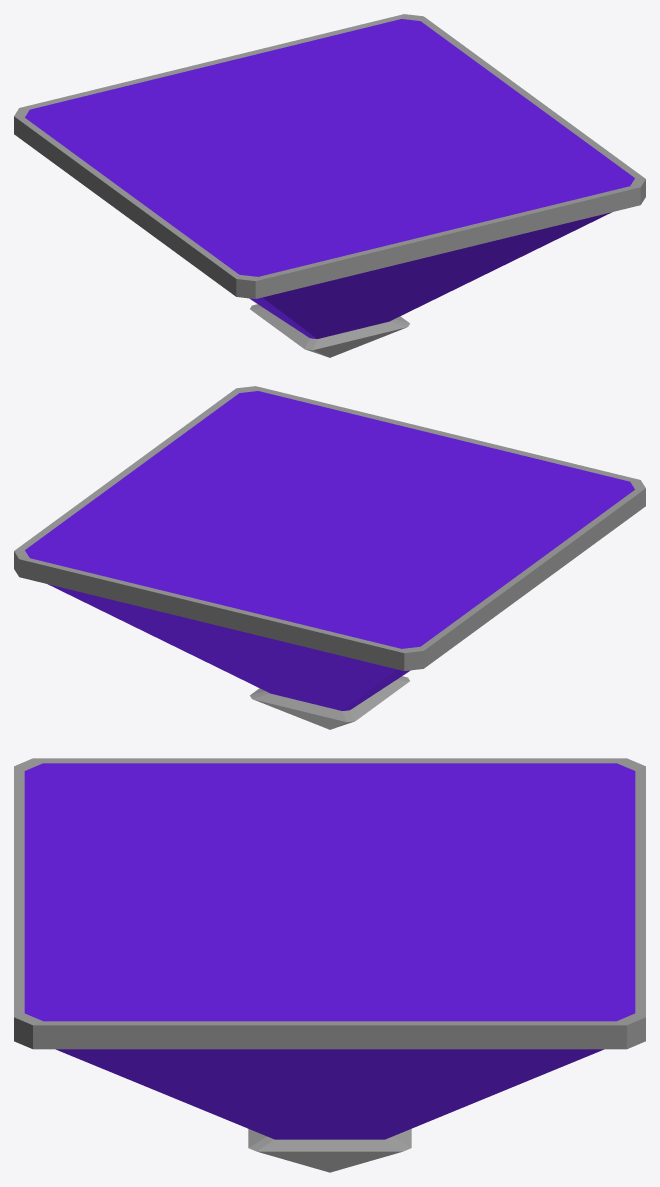
Rendered from Model_Obelisk_StageBase.fbx.
3 renders of one model, top to bottom at view 1: azimuth 30°, elevation 25°; view 2: azimuth 150°, elevation 25°; view 3: azimuth 270°, elevation 25°, orthographic. The views are drawn at different scales.
Visible parts, largest first — view 1: Obelisk Stage Base; view 2: Obelisk Stage Base; view 3: Obelisk Stage Base.
Boxes of the visible parts, box(x1,y1,x2,y2) form: Obelisk Stage Base: box(14, 14, 645, 357); Obelisk Stage Base: box(14, 386, 645, 729); Obelisk Stage Base: box(14, 758, 645, 1172).
Bounding box in the file's own units: 1153 × 565 × 1153.
